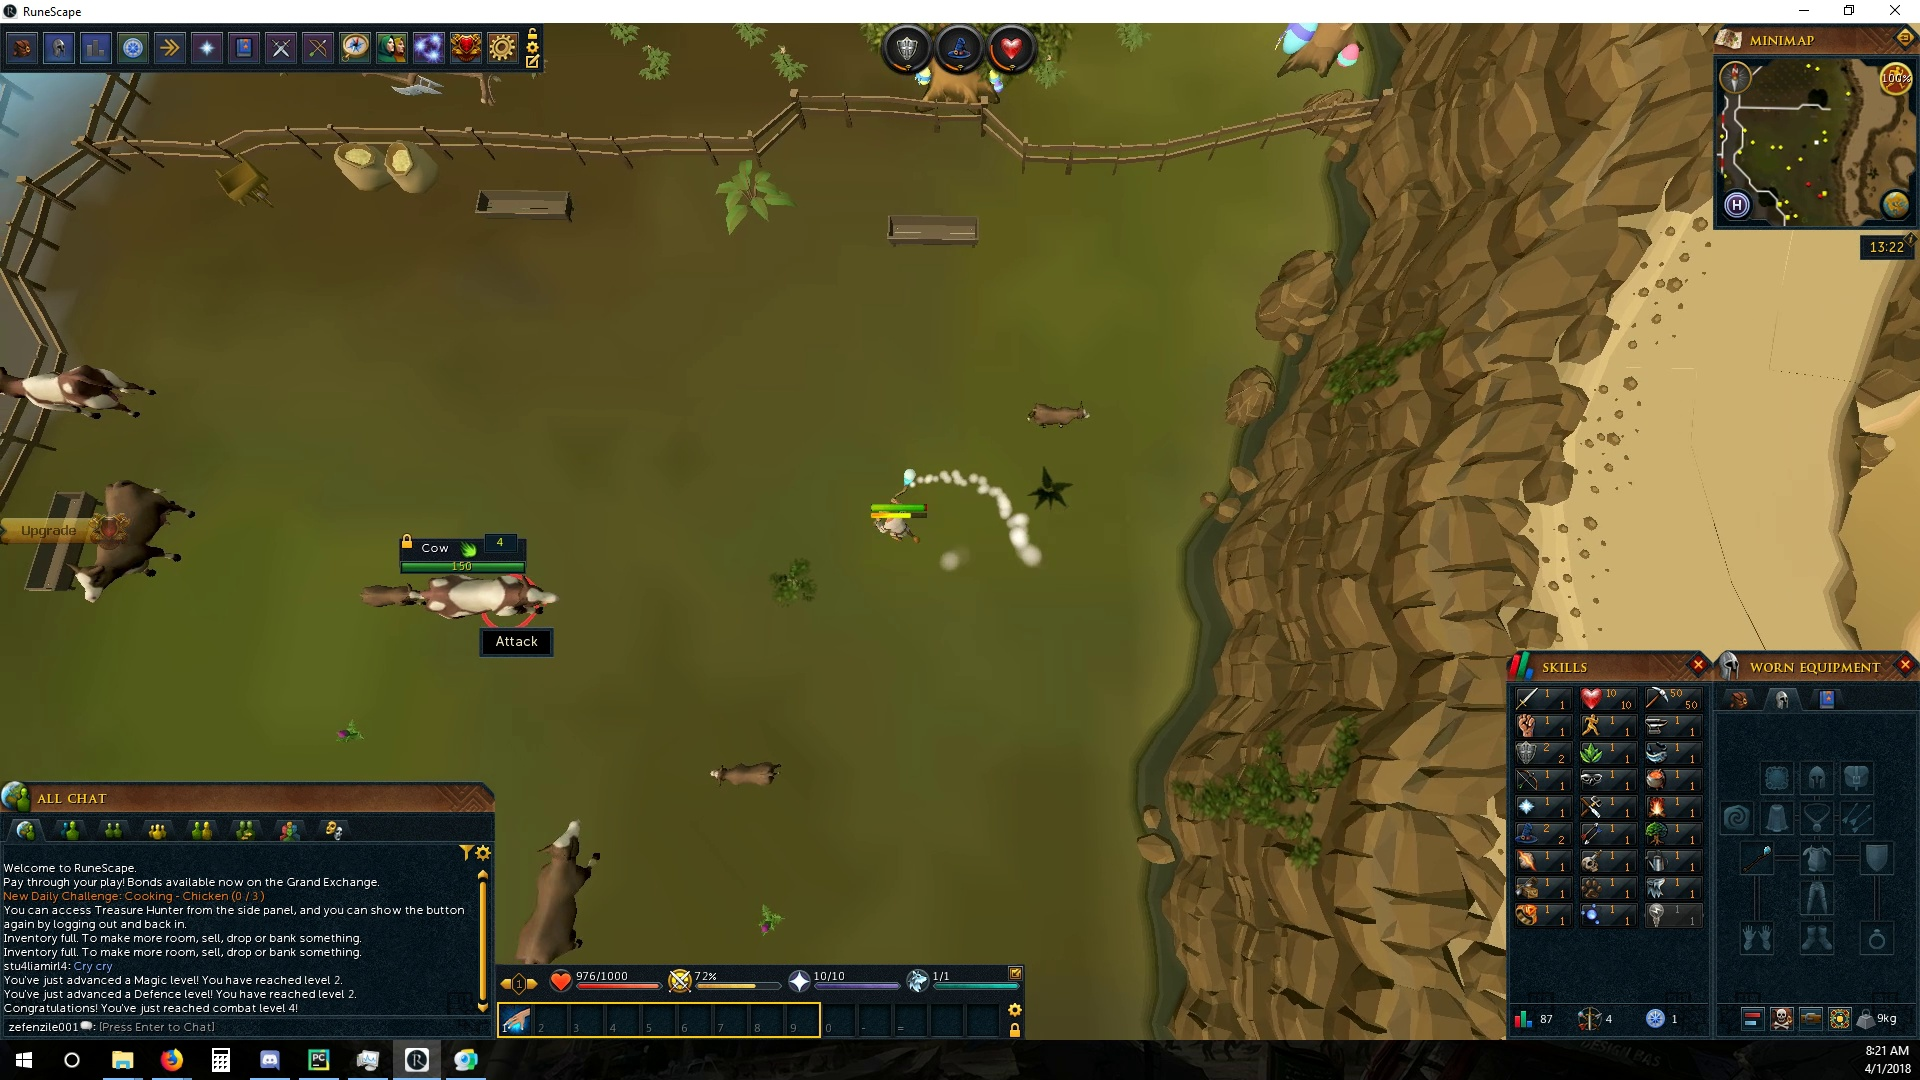calf: (705, 760, 785, 790), (1025, 400, 1092, 431), (360, 579, 426, 611)
cow: (70, 480, 198, 607), (506, 818, 611, 963), (1, 360, 161, 423), (418, 575, 570, 622)
